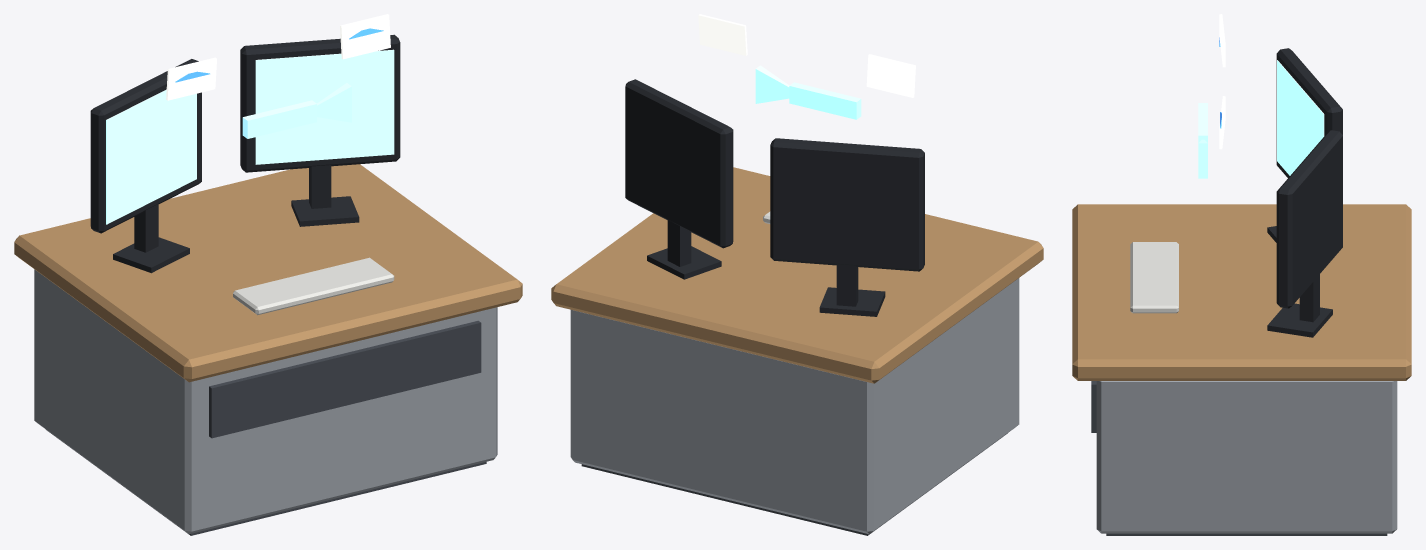
Rendered from autoreply_p1_3.glb.
3 renders of one model, left to right at view 1: azimuth 30°, elevation 25°; view 2: azimuth 150°, elevation 25°; view 3: azimuth 270°, elevation 25°, orthographic. The views are drawn at different scales.
Visible parts, largest first — view 1: autoreply_p1_3_mesh_Desk, autoreply_p1_3_mesh; view 2: autoreply_p1_3_mesh_Desk, autoreply_p1_3_mesh; view 3: autoreply_p1_3_mesh_Desk, autoreply_p1_3_mesh.
Part boxes in pixels (x1,y1,x2,y2): autoreply_p1_3_mesh_Desk: [14, 164, 522, 535]; autoreply_p1_3_mesh: [90, 14, 400, 315]; autoreply_p1_3_mesh_Desk: [551, 167, 1043, 535]; autoreply_p1_3_mesh: [625, 14, 924, 316]; autoreply_p1_3_mesh_Desk: [1072, 204, 1411, 535]; autoreply_p1_3_mesh: [1130, 14, 1342, 337].
Size of the model in its own units: 0.78 by 0.9101 by 0.7.
